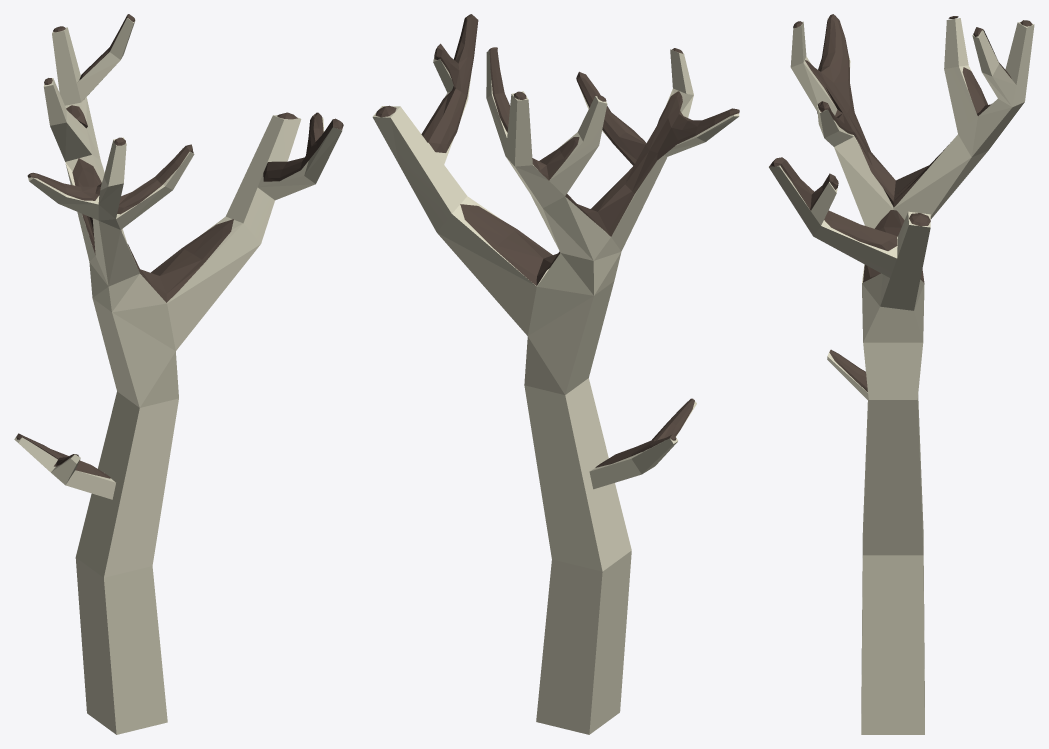
Rendered from thanCay.glb.
3 renders of one model, left to right at view 1: azimuth 30°, elevation 25°; view 2: azimuth 150°, elevation 25°; view 3: azimuth 270°, elevation 25°, orthographic. The views are drawn at different scales.
Visible parts, largest first — view 1: Tree Dead; view 2: Tree Dead; view 3: Tree Dead.
Part boxes in pixels (x1,y1,x2,y2): Tree Dead: (14,14,343,734); Tree Dead: (372,14,739,734); Tree Dead: (769,14,1034,734).
Bounding box in the file's own units: 1.48 × 3.04 × 1.02.
